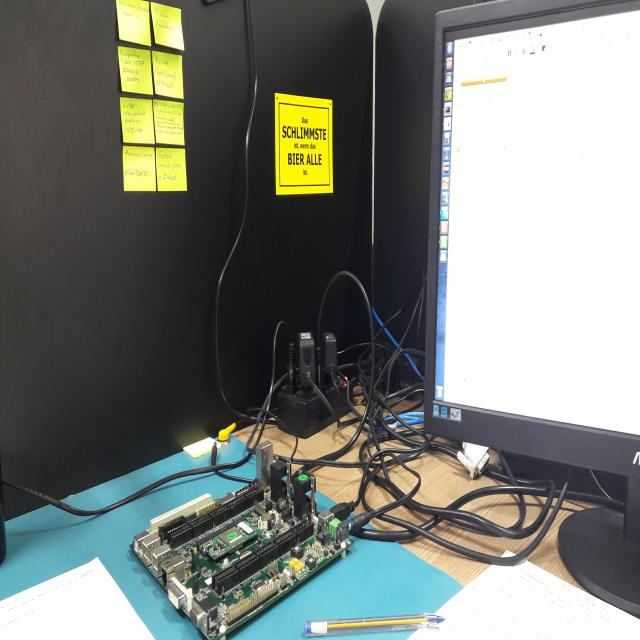som: (199, 515, 262, 574)
